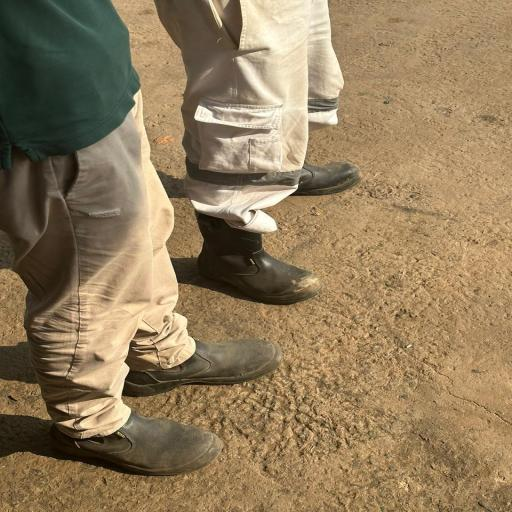safety_shoe: (38, 396, 239, 488), (184, 204, 346, 314), (116, 331, 296, 392), (278, 152, 380, 196)
